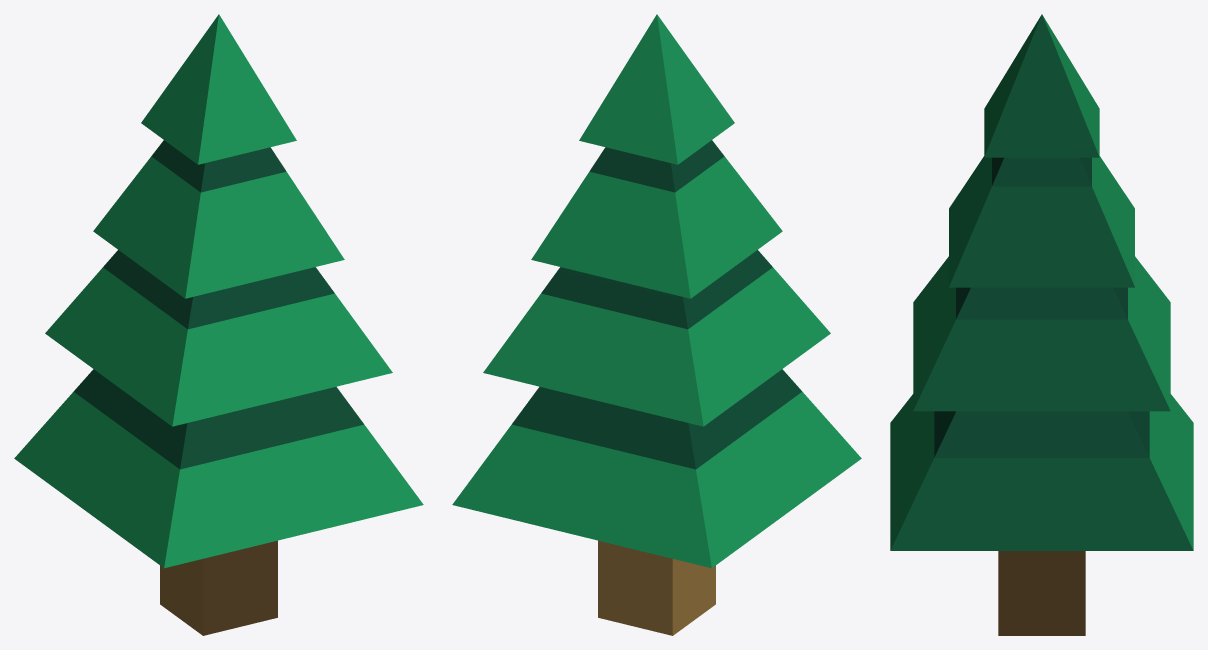
The model's file is tree_01.FBX.
3 renders of one model, left to right at view 1: azimuth 30°, elevation 25°; view 2: azimuth 150°, elevation 25°; view 3: azimuth 270°, elevation 25°, orthographic.
Visible parts, largest first — view 1: tree_01; view 2: tree_01; view 3: tree_01.
Boxes of the visible parts, x1,y1,x2,y2 form: tree_01: (14,14,423,635); tree_01: (452,14,861,635); tree_01: (890,14,1193,635).
Bounding box in the file's own units: 160 × 351 × 160.
